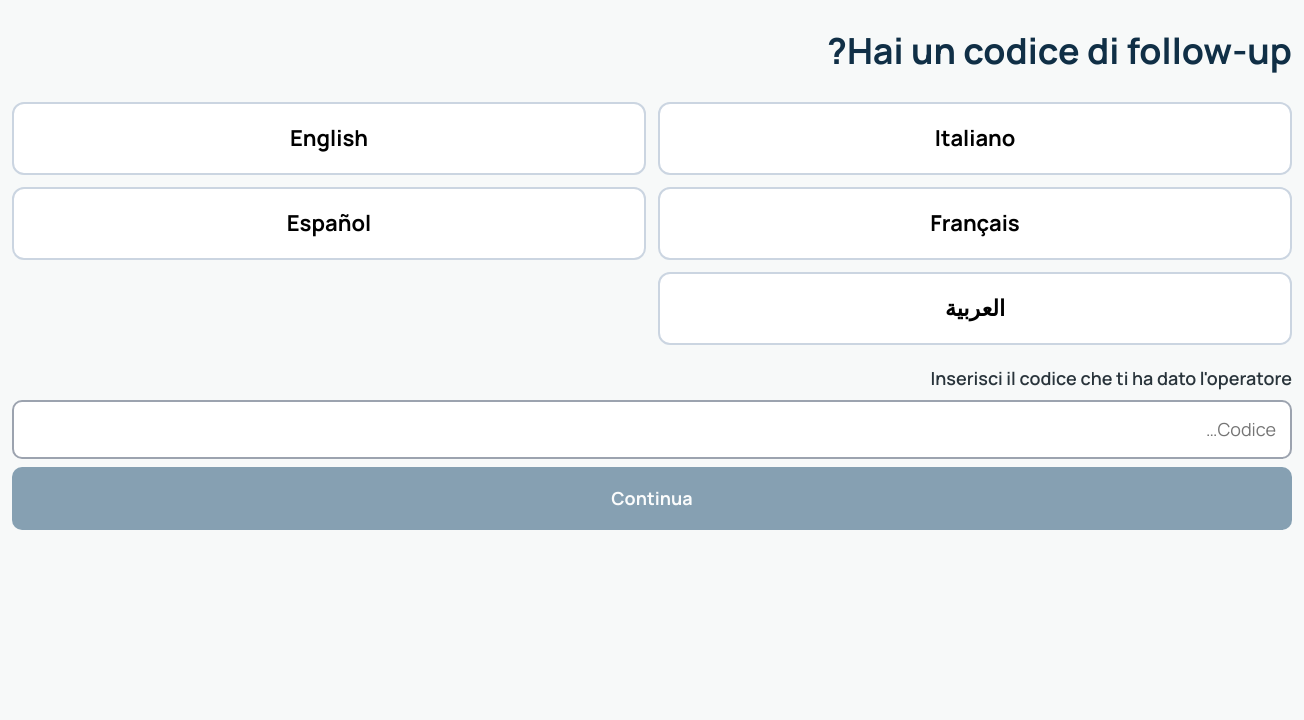
it: picking a language reveals the listen affordance and narrates the title + token prompt
Click the button "Italiano": {"x": 975, "y": 139} left=658, top=102, right=1292, bottom=175
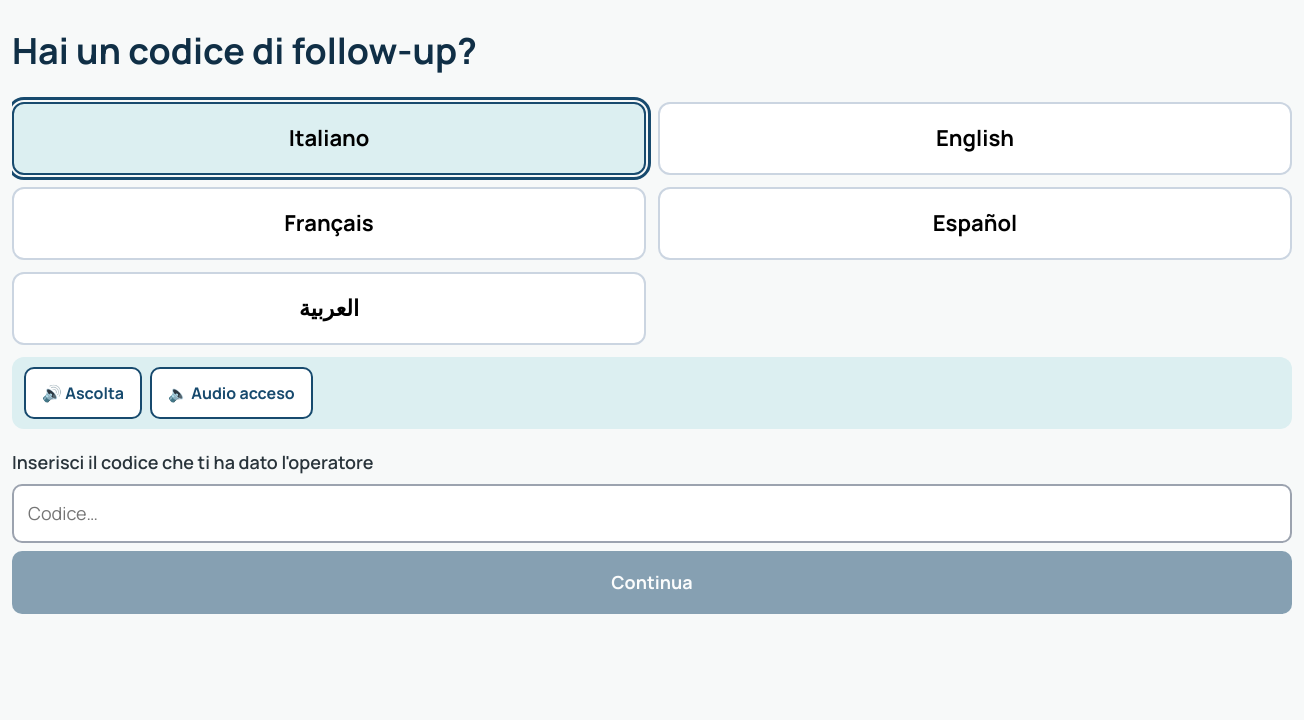
Check: the button "🔊 Ascolta" is shown, box left=24, top=367, right=142, bottom=419
